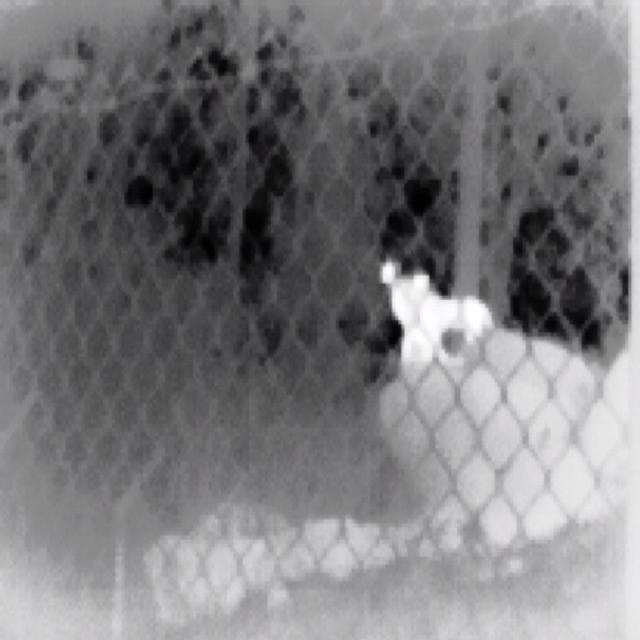cheetah: (412, 272, 494, 357), (382, 262, 437, 358)
